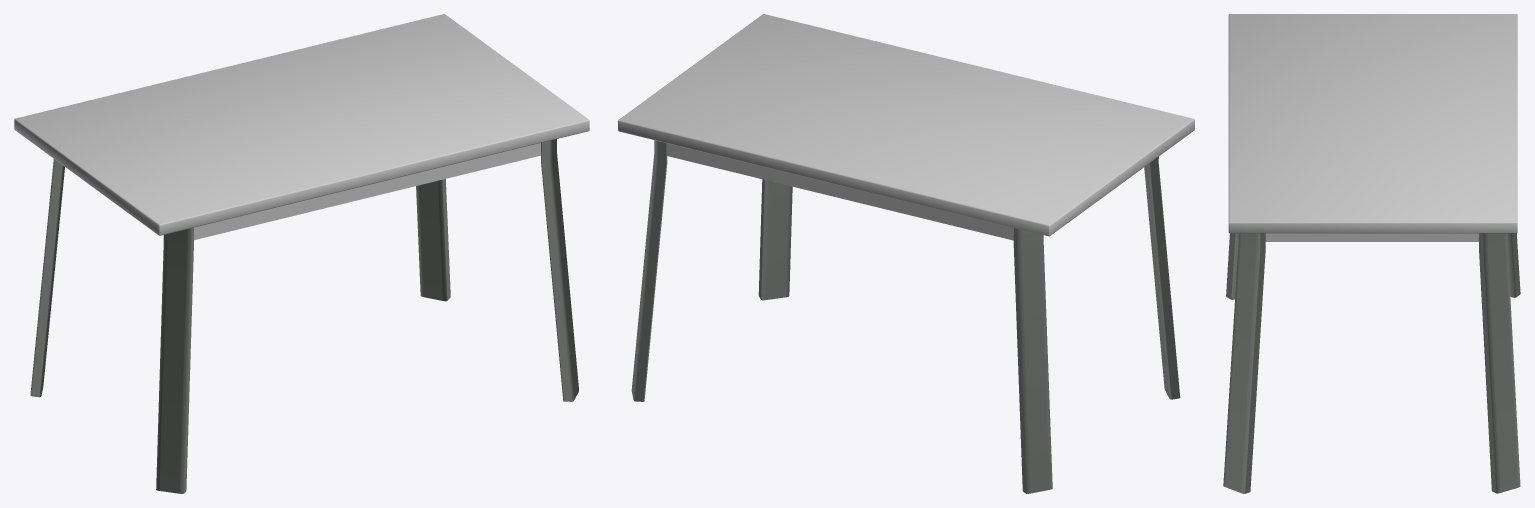
Rendered from beyaz.gltf.
The picture shows the model from 3 angles, left to right: view 1: azimuth 30°, elevation 25°; view 2: azimuth 150°, elevation 25°; view 3: azimuth 270°, elevation 25°; orthographic projection.
Visible parts, largest first — view 1: Leg:3; view 2: Leg:3; view 3: Leg:3.
Part boxes in pixels (x1,y1,x2,y2): Leg:3: [14, 14, 589, 493]; Leg:3: [618, 14, 1194, 493]; Leg:3: [1223, 14, 1520, 493].
Size of the model in its own units: 3.09 by 1.89 by 1.86.
